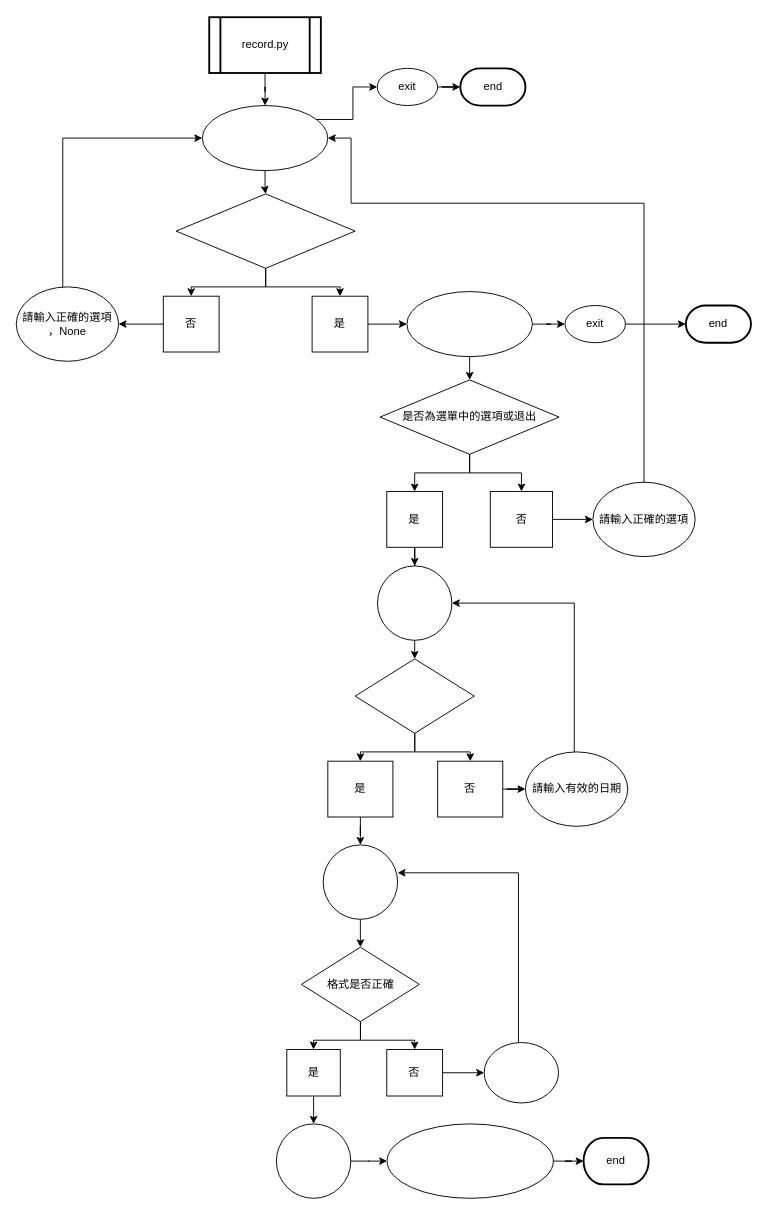
This 768x1215 diagram has some shape labels left out. The shapes that lost their labels are listed below. From the top down, each one's box as (x1, y1, x2, y2) in pixels, then its label:
(201, 105, 328, 171): 請輸入選單選項 (1.支出2.收入)
(175, 193, 355, 268): 是否為選單中的選項或exit
(406, 291, 532, 357): 請輸入選單選項 (食衣住行娛樂及其他)
(377, 565, 452, 640): 輸入日期
(354, 658, 474, 733): 是否為有效日期
(322, 844, 398, 919): 輸入金額
(483, 1042, 559, 1103): 格式不對
(275, 1123, 351, 1198): 輸入備註
(386, 1123, 553, 1198): 紀錄完成，以下是你的紀錄
